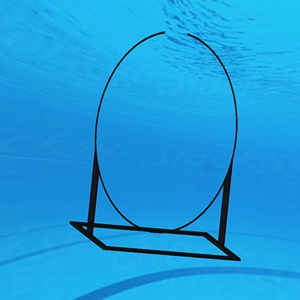circle: (69, 29, 243, 266)
